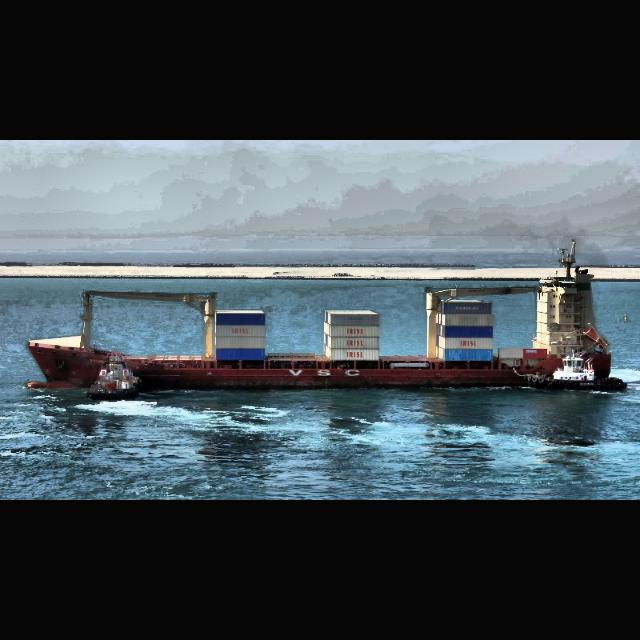container: (25, 238, 627, 394)
tug: (86, 352, 144, 398)
